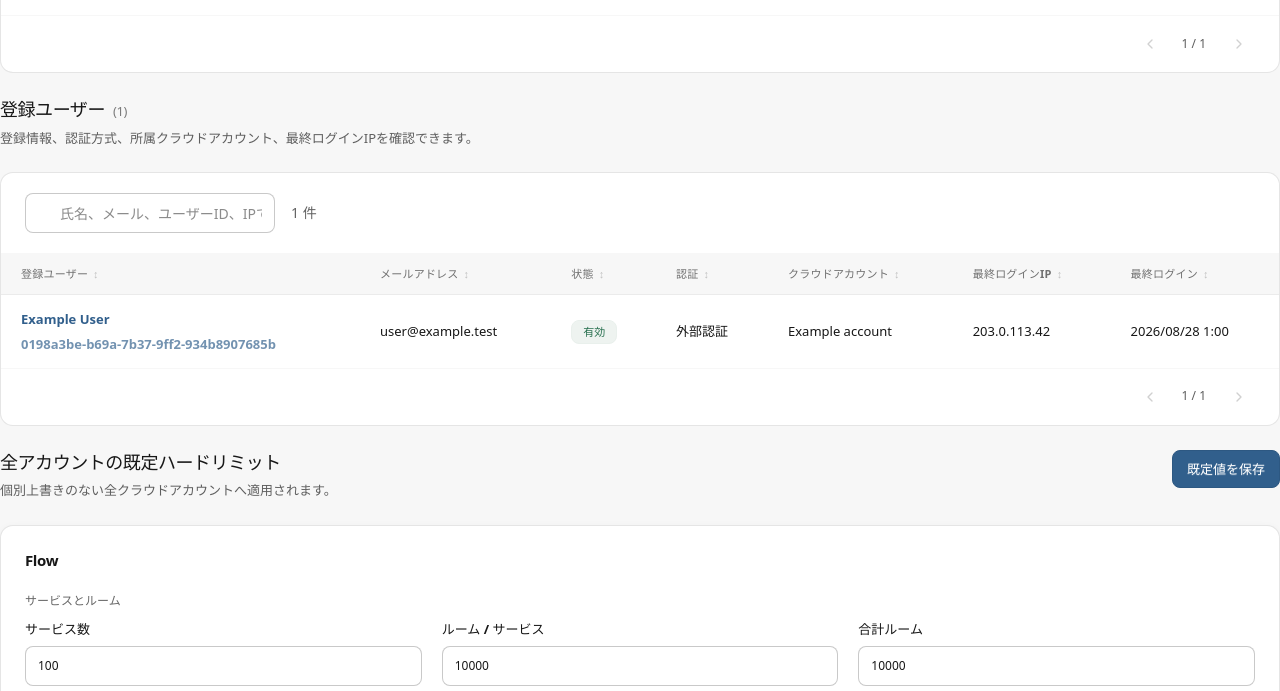
Scenario: OwnerQuotasPage › サービス全体と全アカウントの制限を表示して既定値を保存する
This screenshot has width=1280, height=691.
Later steps or results of the test are not shown.
(page scrolled)
Expected: the text "203.0.113.42" is shown, [973,322,1050,340]
Expected: the heading "全アカウントの既定ハードリミット" is shown, [0,450,281,474]
Click the link with aria-label "Example Userの登録情報を表示" at (148, 332), box [21,309,276,354]
(page scrolled)
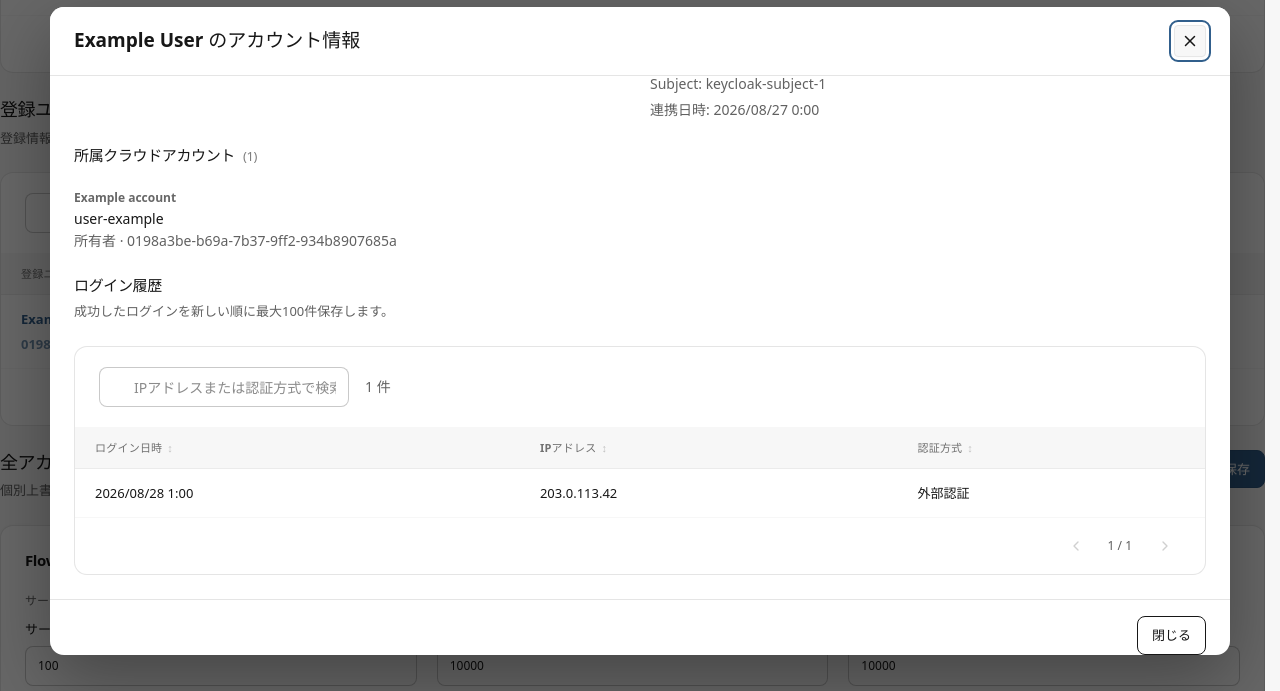
Result: the heading "Example User のアカウント情報" is shown at [74,26,360,56]
Result: the text "Subject: keycloak-subject-1" is shown at [650,74,826,93]
Click the button "閉じる" at (1172, 636), box [1137,616,1206,655]
(page scrolled)
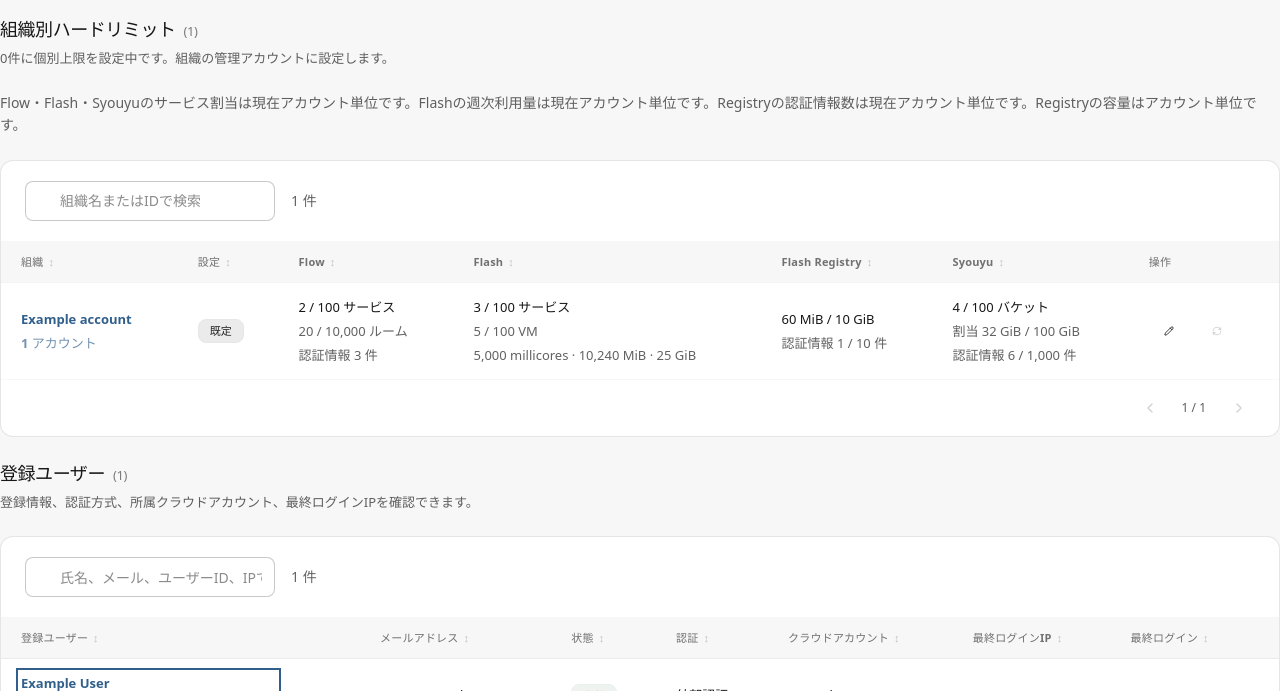
Click the link with aria-label "Example accountの使用量と上限を表示" at (76, 331), box [21,309,132,353]
(page scrolled)
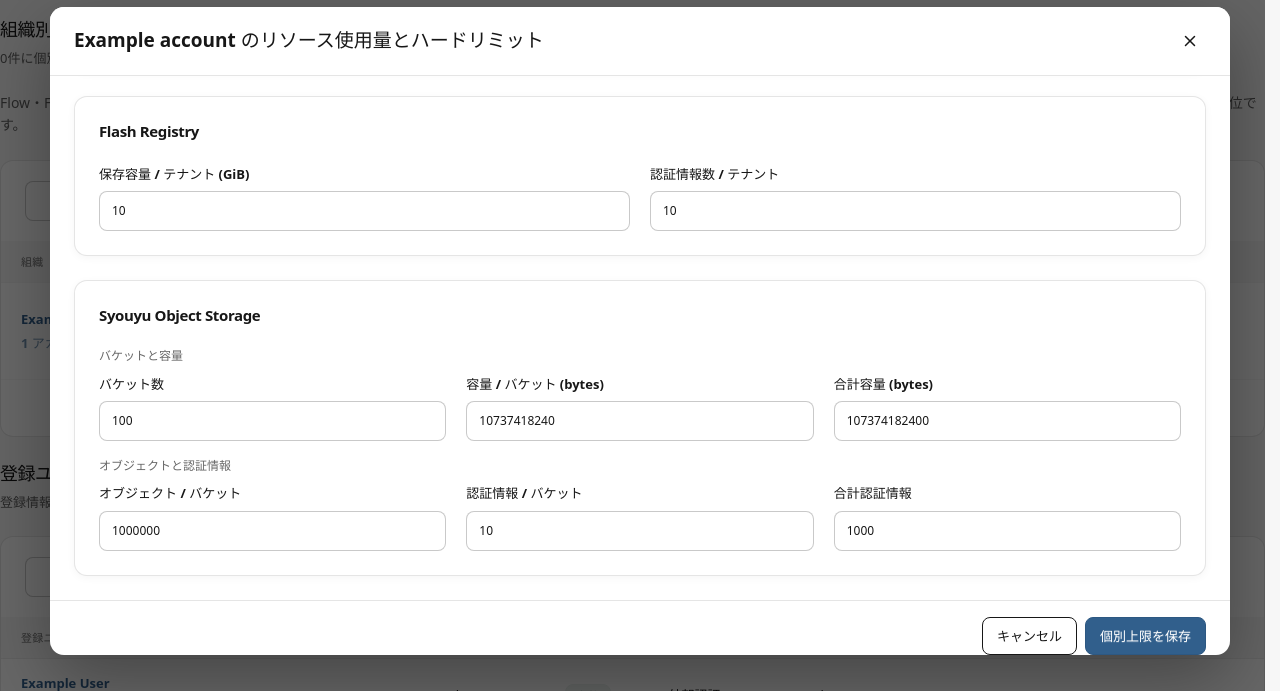
Result: the heading "Example account のリソース使用量とハードリミット" is shown at [74,26,544,56]
